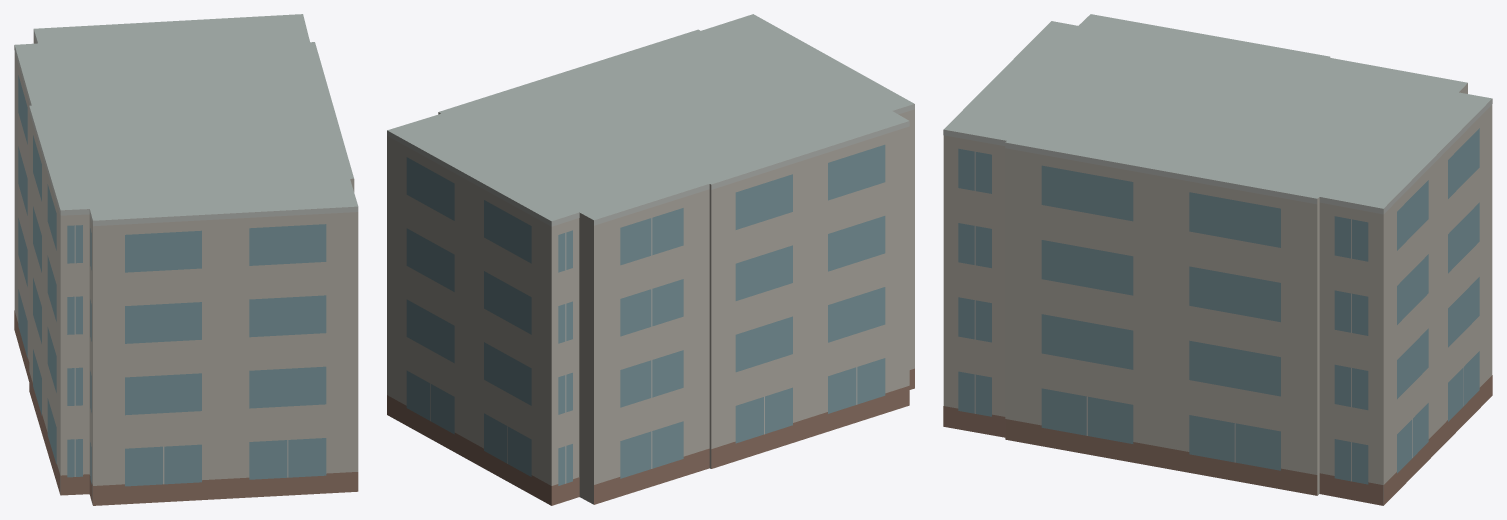
The model's file is survey-upis-32658490.glb.
3 renders of one model, left to right at view 1: azimuth 30°, elevation 25°; view 2: azimuth 150°, elevation 25°; view 3: azimuth 270°, elevation 25°, orthographic. The views are drawn at different scales.
Visible parts, largest first — view 1: survey-upis-32658490.tmp; view 2: survey-upis-32658490.tmp; view 3: survey-upis-32658490.tmp.
Boxes of the visible parts, <box> form: survey-upis-32658490.tmp: <box>14,14,358,505</box>; survey-upis-32658490.tmp: <box>387,14,914,505</box>; survey-upis-32658490.tmp: <box>943,14,1492,505</box>.
Size of the model in its own units: 18.01 by 12.8 by 21.45.
